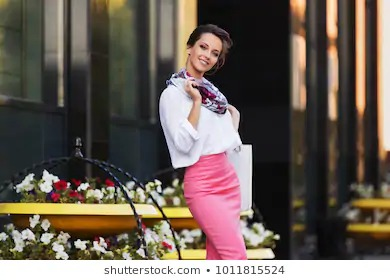S_blouse: (150, 66, 239, 163)
